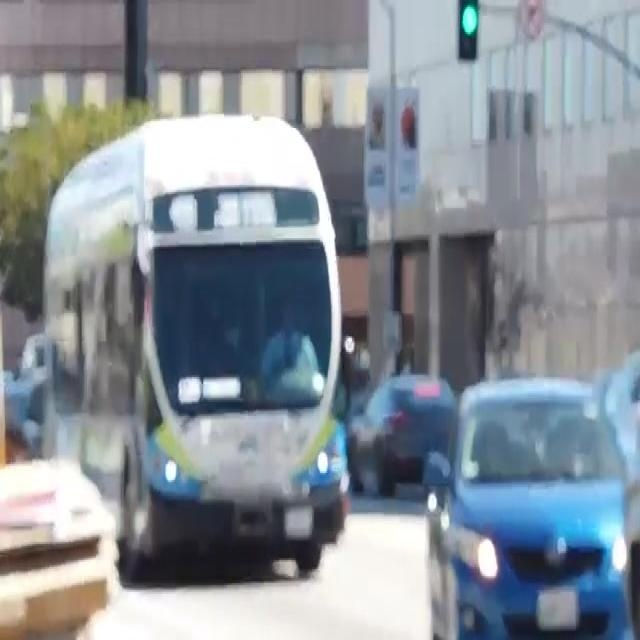Bus: (70, 147, 354, 564)
